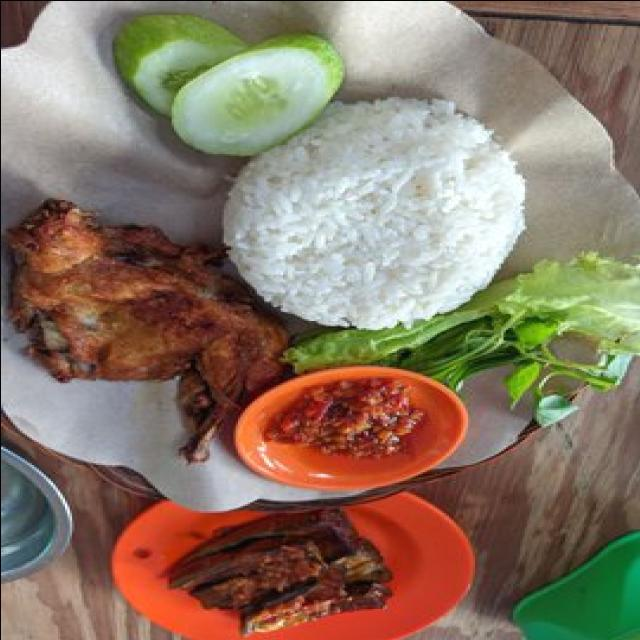ayam goreng: (0, 196, 294, 464)
nasi: (216, 92, 526, 338)
